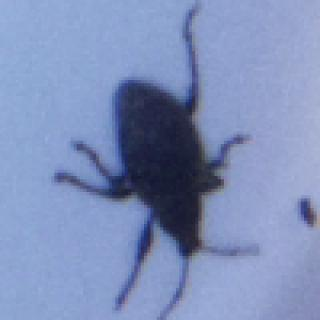bvw: (53, 0, 262, 320)
